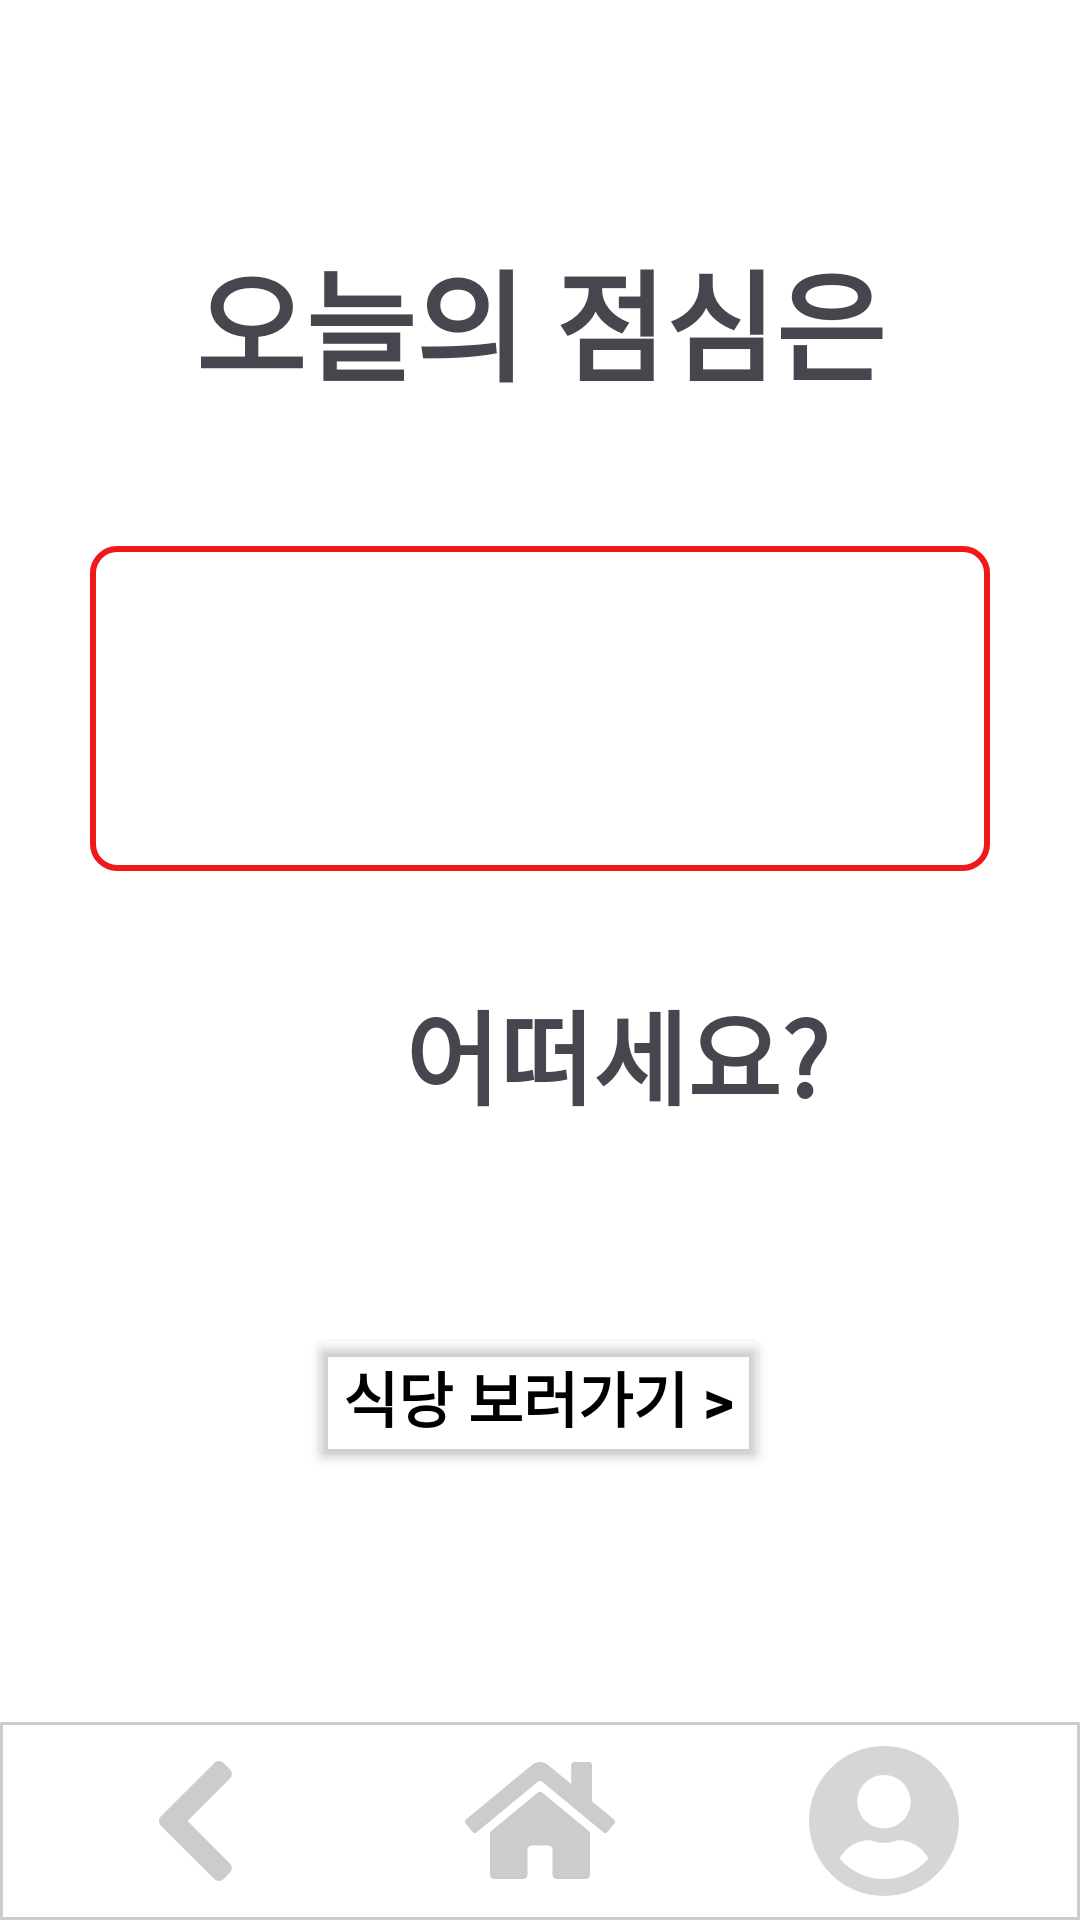

Where to tap for icons on this 1080×1920 app screen, as (x=x, y=y):
Back Button: (x=195, y=1821)
Home Button: (x=540, y=1820)
My Page Button: (x=884, y=1821)
